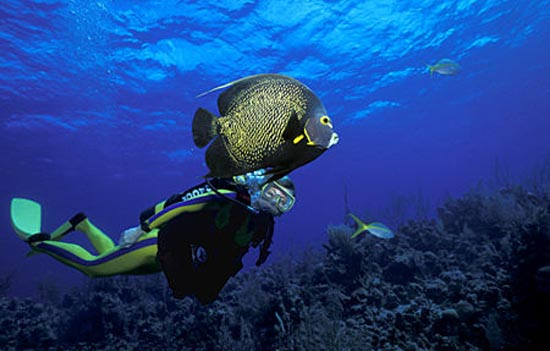Pomacanthus_paru: (183, 66, 346, 176)
